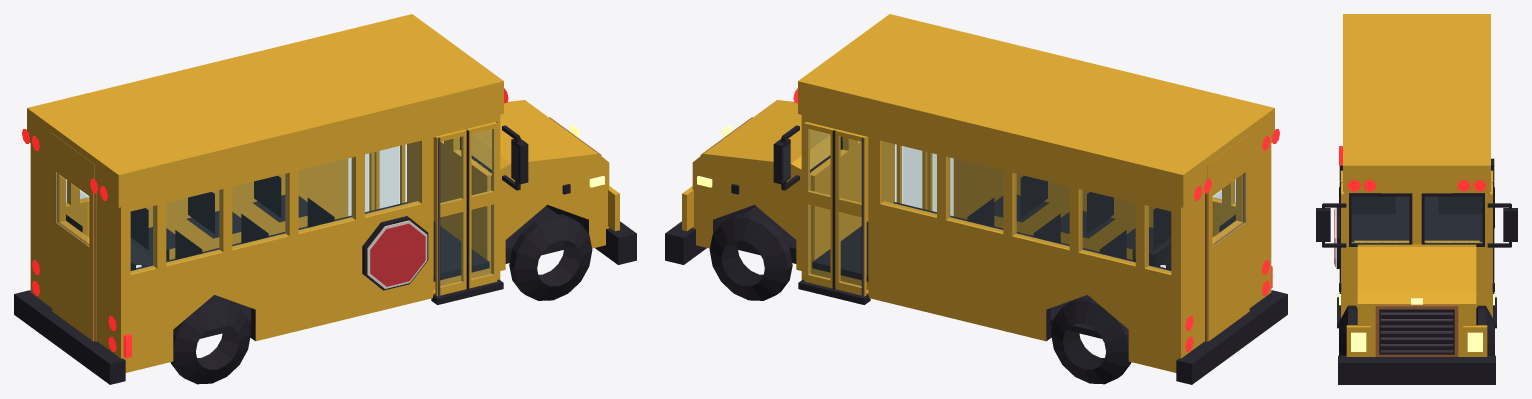
The model's file is veh.school-bus.lod2.glb.
3 renders of one model, left to right at view 1: azimuth 30°, elevation 25°; view 2: azimuth 150°, elevation 25°; view 3: azimuth 270°, elevation 25°, orthographic. The views are drawn at different scales.
Visible parts, largest first — view 1: body, object 20, wheelFR, wheelRR, door_near_0:pal_backpackTeal, door_near_1:pal_backpackTeal, door_near_0:pal_schoolBusYellow, door_near_1:pal_schoolBusYellow, door_far_1:pal_schoolBusYellow, door_near_1:pal_uiDark; view 2: body, object 20, wheelFL, wheelRL, door_far_0:pal_backpackTeal, door_far_1:pal_backpackTeal, door_far_0:pal_schoolBusYellow, door_far_1:pal_schoolBusYellow, door_near_1:pal_schoolBusYellow, door_far_1:pal_uiDark; view 3: body, object 20, lightsFront, wheelFL, wheelFR, door_far_1:pal_schoolBusYellow, door_near_1:pal_schoolBusYellow, door_far_1:pal_uiDark, door_near_1:pal_uiDark.
Part boxes in pixels (x1,y1,x2,y2): body: [22, 14, 528, 372]; object 20: [14, 100, 636, 384]; wheelFR: [509, 214, 592, 300]; wheelRR: [170, 297, 250, 384]; door_near_0:pal_backpackTeal: [441, 137, 463, 287]; door_near_1:pal_backpackTeal: [473, 130, 493, 279]; door_near_0:pal_schoolBusYellow: [435, 129, 466, 296]; door_near_1:pal_schoolBusYellow: [466, 122, 497, 288]; door_far_1:pal_schoolBusYellow: [374, 144, 405, 209]; door_near_1:pal_uiDark: [466, 130, 469, 289]; body: [773, 14, 1279, 372]; object 20: [665, 100, 1287, 384]; wheelFL: [709, 214, 792, 300]; wheelRL: [1051, 297, 1131, 384]; door_far_0:pal_backpackTeal: [838, 137, 860, 287]; door_far_1:pal_backpackTeal: [808, 130, 828, 279]; door_far_0:pal_schoolBusYellow: [835, 129, 866, 296]; door_far_1:pal_schoolBusYellow: [804, 122, 835, 288]; door_near_1:pal_schoolBusYellow: [896, 144, 927, 209]; door_far_1:pal_uiDark: [832, 130, 835, 289]; body: [1316, 14, 1517, 328]; object 20: [1338, 158, 1495, 384]; lightsFront: [1351, 332, 1482, 351]; wheelFL: [1476, 305, 1494, 355]; wheelFR: [1339, 305, 1357, 355]; door_far_1:pal_schoolBusYellow: [1490, 183, 1492, 317]; door_near_1:pal_schoolBusYellow: [1341, 183, 1343, 317]; door_far_1:pal_uiDark: [1492, 182, 1494, 310]; door_near_1:pal_uiDark: [1339, 182, 1341, 310].
Size of the model in its own units: 8.01 by 3.41 by 3.3.
